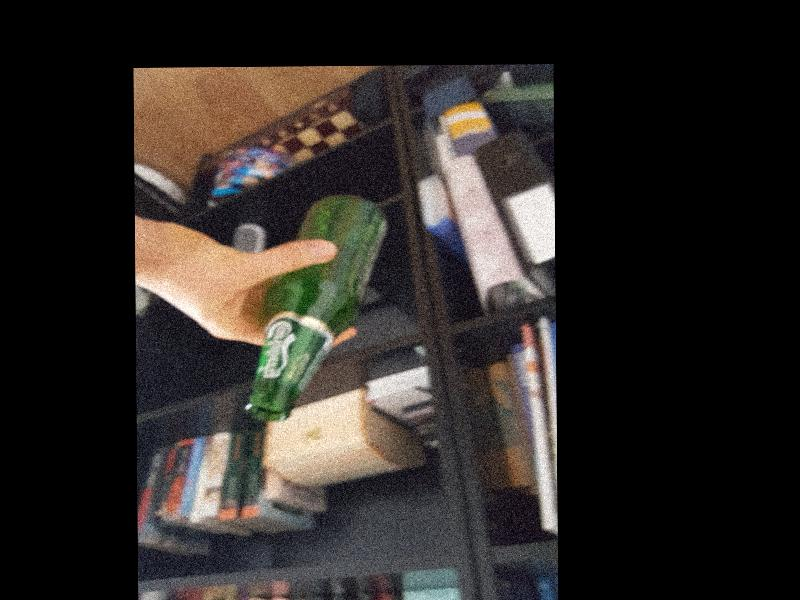Beer: (246, 194, 392, 421)
